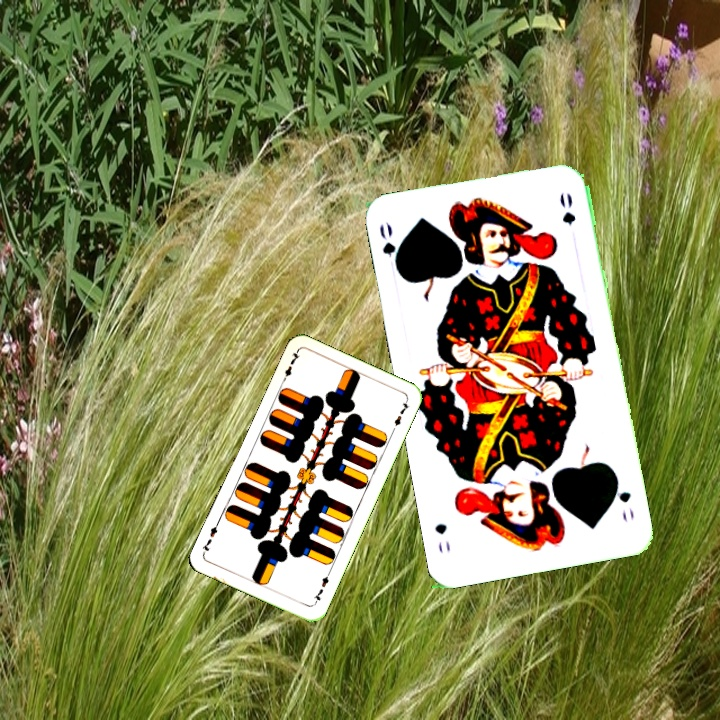E7: (278, 347, 302, 386), (309, 568, 332, 607)
GO: (375, 218, 404, 277), (610, 472, 637, 524)
